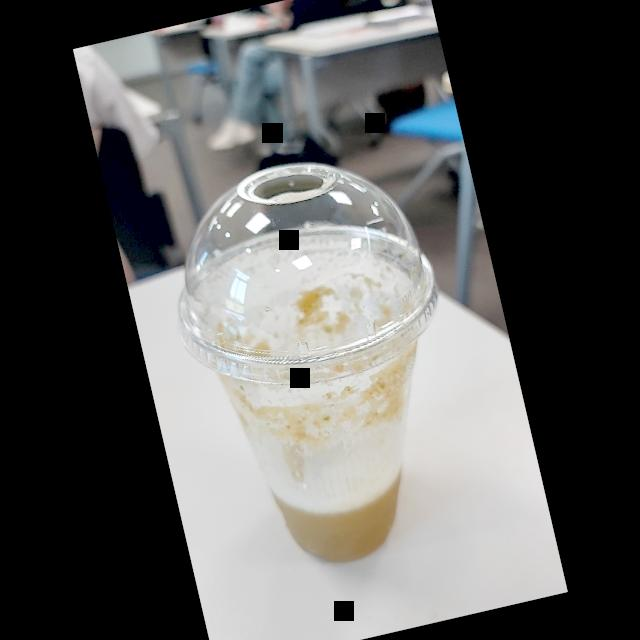plastic_cup: (142, 124, 502, 608)
plastic_cup_lid: (141, 132, 463, 414)
